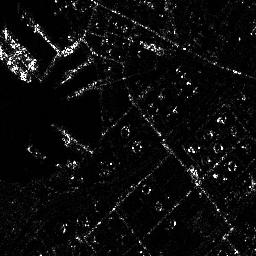ship: (1, 26, 39, 74), (1, 46, 32, 84)
